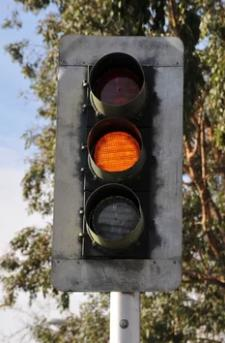yellow_light: (52, 34, 183, 289)
